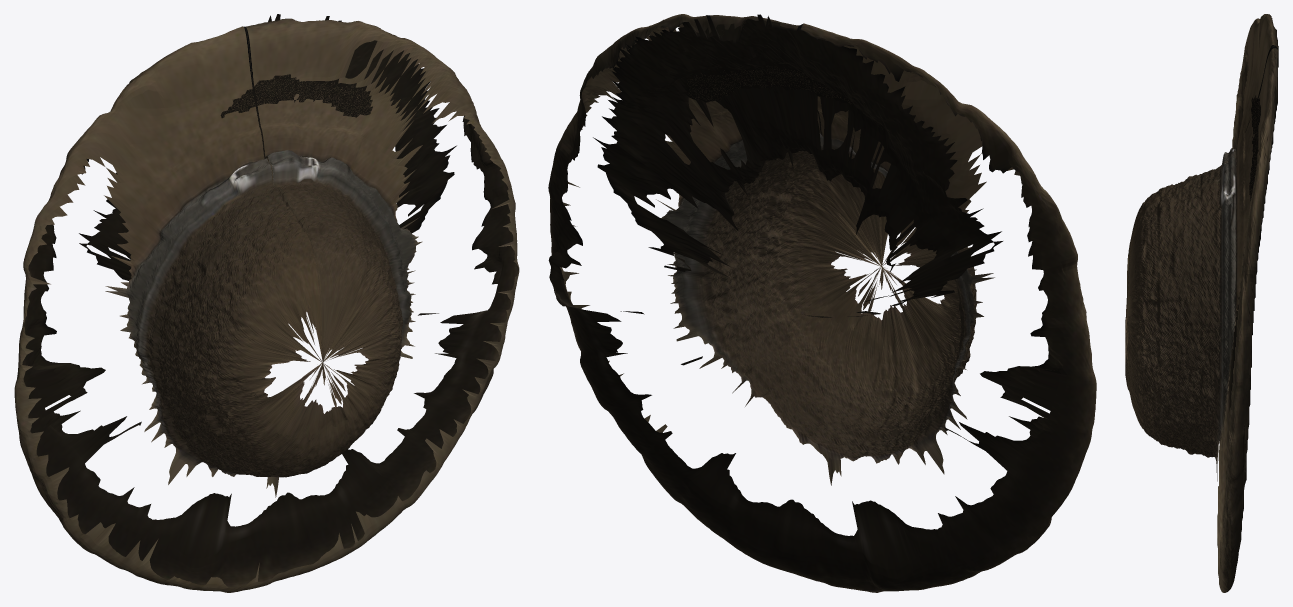
The picture shows the model from 3 angles, left to right: view 1: azimuth 30°, elevation 25°; view 2: azimuth 150°, elevation 25°; view 3: azimuth 270°, elevation 25°; orthographic projection. The views are drawn at different scales.
Visible parts, largest first — view 1: geometry_0; view 2: geometry_0; view 3: geometry_0.
Part boxes in pixels (x1,y1,x2,y2): geometry_0: [14, 14, 519, 592]; geometry_0: [548, 14, 1096, 592]; geometry_0: [1125, 14, 1278, 592].
Size of the model in its own units: 1.85 by 1.9 by 0.5049.
Materials: 1 (1 with a texture image).
